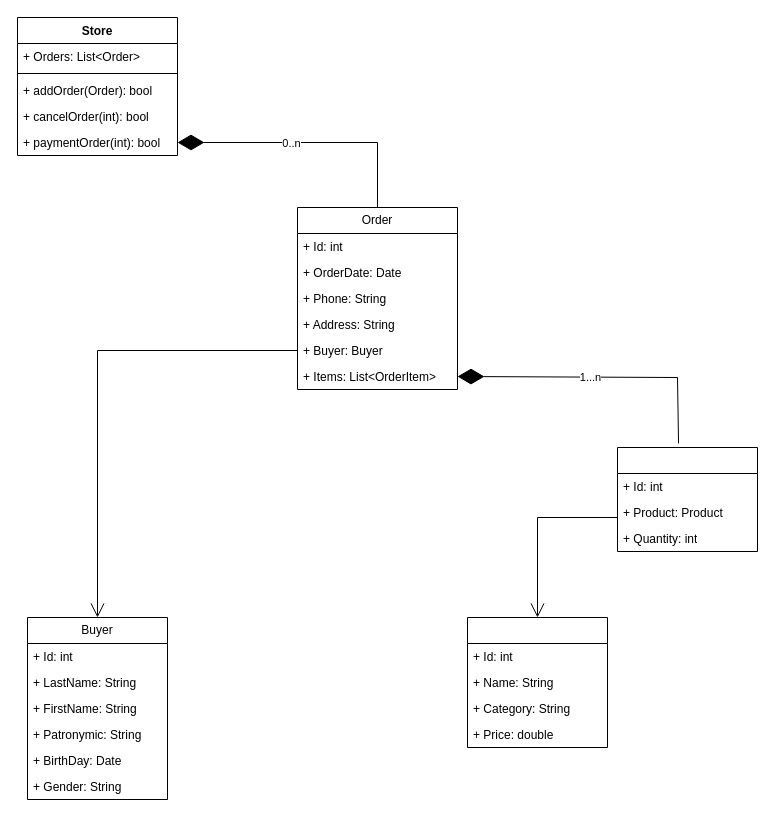
Some shapes in this 775 by 820 pixel diagram are drawn without their labels. Each missing label, with the box of its shape:
OrderItem: (616, 446, 758, 552)
Product: (466, 616, 608, 748)
